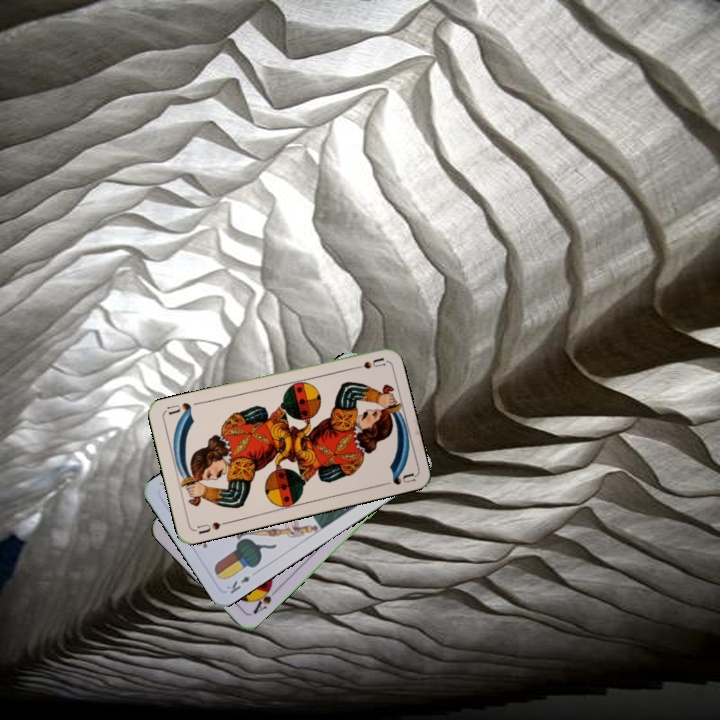EK: (222, 572, 253, 597)
SA: (249, 581, 280, 617)
SU: (346, 353, 387, 372), (191, 517, 231, 536)
